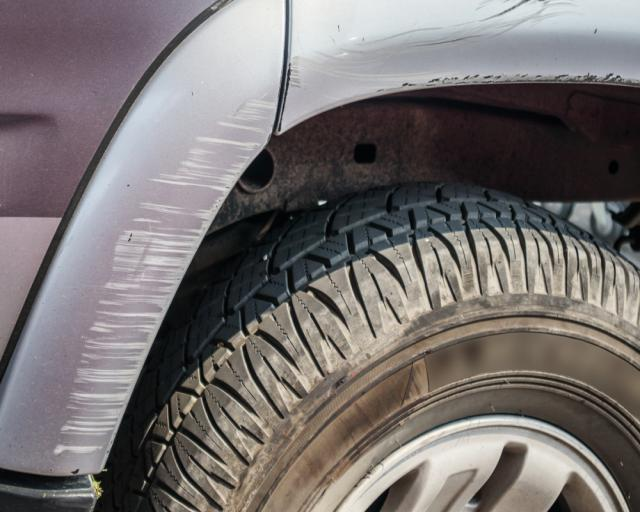scratch: (53, 81, 278, 463), (277, 0, 640, 131)
